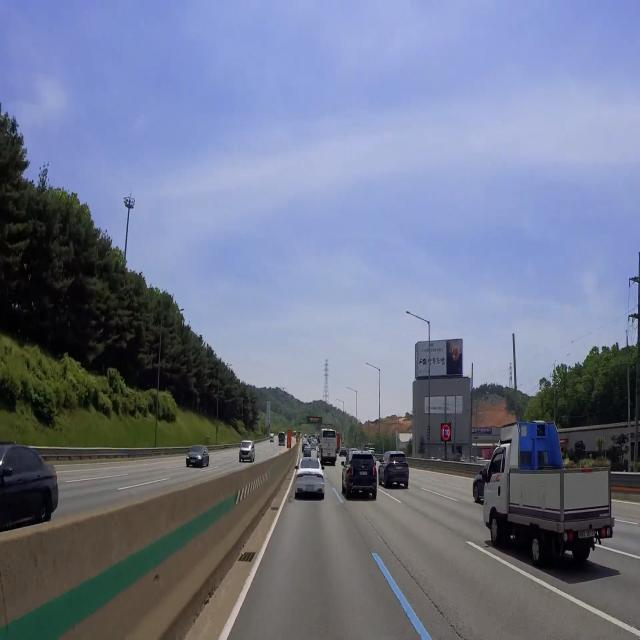car: (573, 526, 601, 541), (356, 467, 370, 478), (303, 483, 316, 493), (394, 465, 405, 473), (242, 451, 249, 463), (325, 451, 333, 460), (190, 457, 196, 466)
